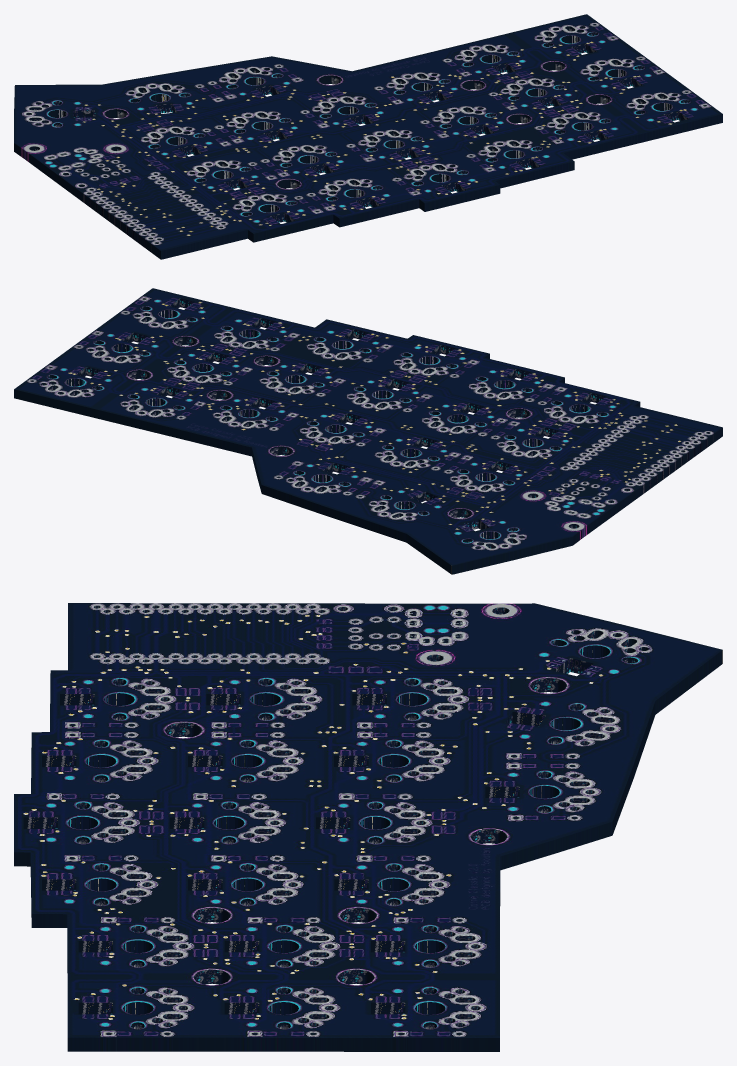
Rendered from corne-classic.obj.
3 views of the same model, one above another, from view 1: azimuth 30°, elevation 25°; view 2: azimuth 150°, elevation 25°; view 3: azimuth 270°, elevation 25° (orthographic). The views are drawn at different scales.
Visible parts, largest first — view 1: Manual_PCB_Plane.003; view 2: Manual_PCB_Plane.003; view 3: Manual_PCB_Plane.003.
Boxes of the visible parts, <box> form: Manual_PCB_Plane.003: <box>14,14,722,259</box>; Manual_PCB_Plane.003: <box>14,288,722,574</box>; Manual_PCB_Plane.003: <box>14,603,722,1051</box>.
Bounding box in the file's own units: 0.1338 × 0.002 × 0.0922.
